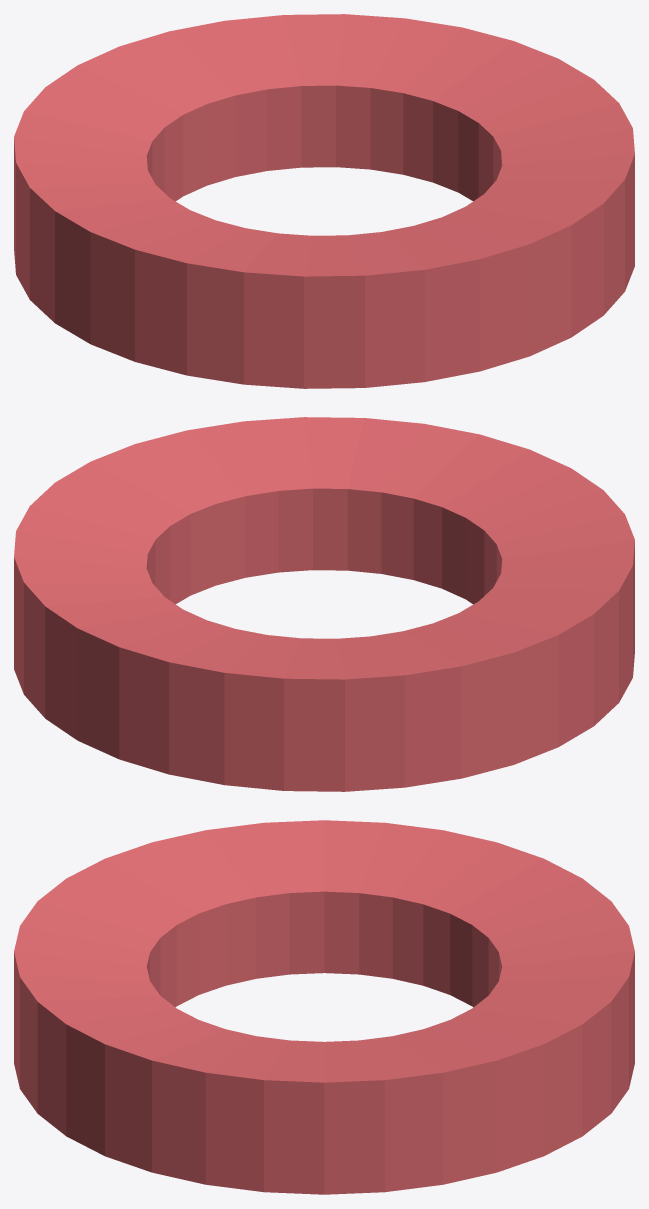
The model's file is Zero.fbx.
The picture shows the model from 3 angles, top to bottom: view 1: azimuth 30°, elevation 25°; view 2: azimuth 150°, elevation 25°; view 3: azimuth 270°, elevation 25°; orthographic projection.
Parts seen in each view (by area): view 1: Circle; view 2: Circle; view 3: Circle.
Boxes of the visible parts, <box> form: Circle: <box>14,14,634,388</box>; Circle: <box>14,417,634,791</box>; Circle: <box>14,820,634,1194</box>.
Size of the model in its own units: 43.83 by 8.73 by 43.83.
